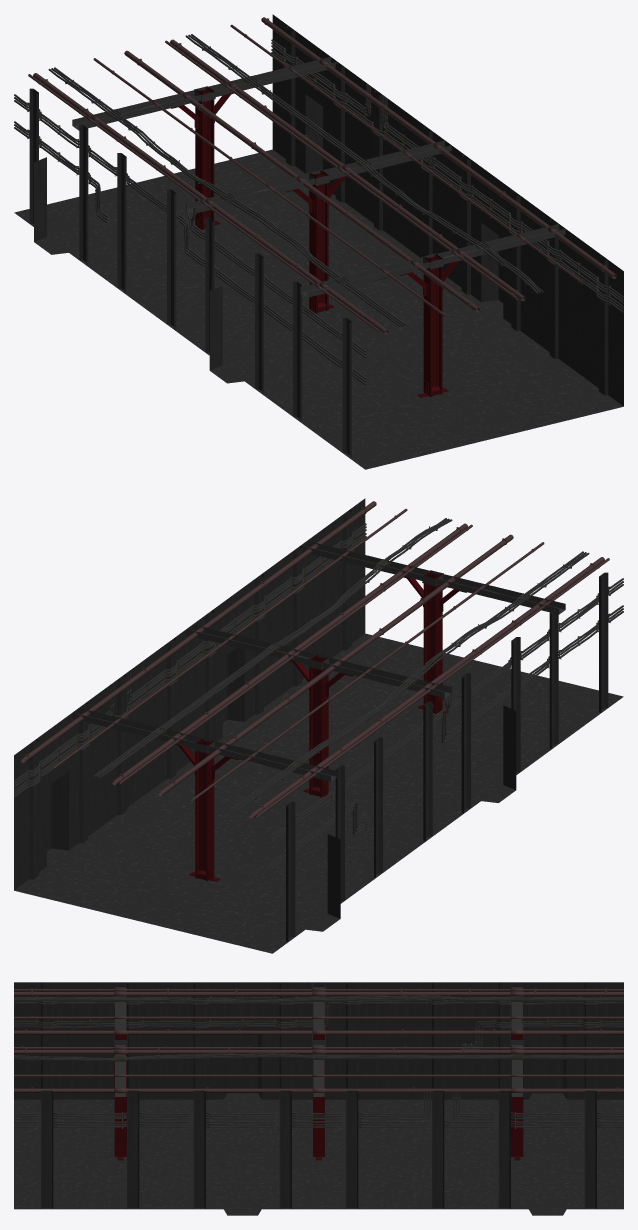
File: SW_ENV_RailTunnel_B_03_Double_20m_FF.fbx
The picture shows the model from 3 angles, top to bottom: view 1: azimuth 30°, elevation 25°; view 2: azimuth 150°, elevation 25°; view 3: azimuth 270°, elevation 25°; orthographic projection. The views are drawn at different scales.
Parts seen in each view (by area): view 1: SW_ENV_RailTunnel_B_03_Double_20m_FF; view 2: SW_ENV_RailTunnel_B_03_Double_20m_FF; view 3: SW_ENV_RailTunnel_B_03_Double_20m_FF.
Part boxes in pixels (left/top/right/bottom): SW_ENV_RailTunnel_B_03_Double_20m_FF: left=14, top=14, right=623, bottom=469; SW_ENV_RailTunnel_B_03_Double_20m_FF: left=14, top=498, right=623, bottom=953; SW_ENV_RailTunnel_B_03_Double_20m_FF: left=14, top=982, right=623, bottom=1215.
Size of the model in its own units: 9.5 by 4.25 by 20.
